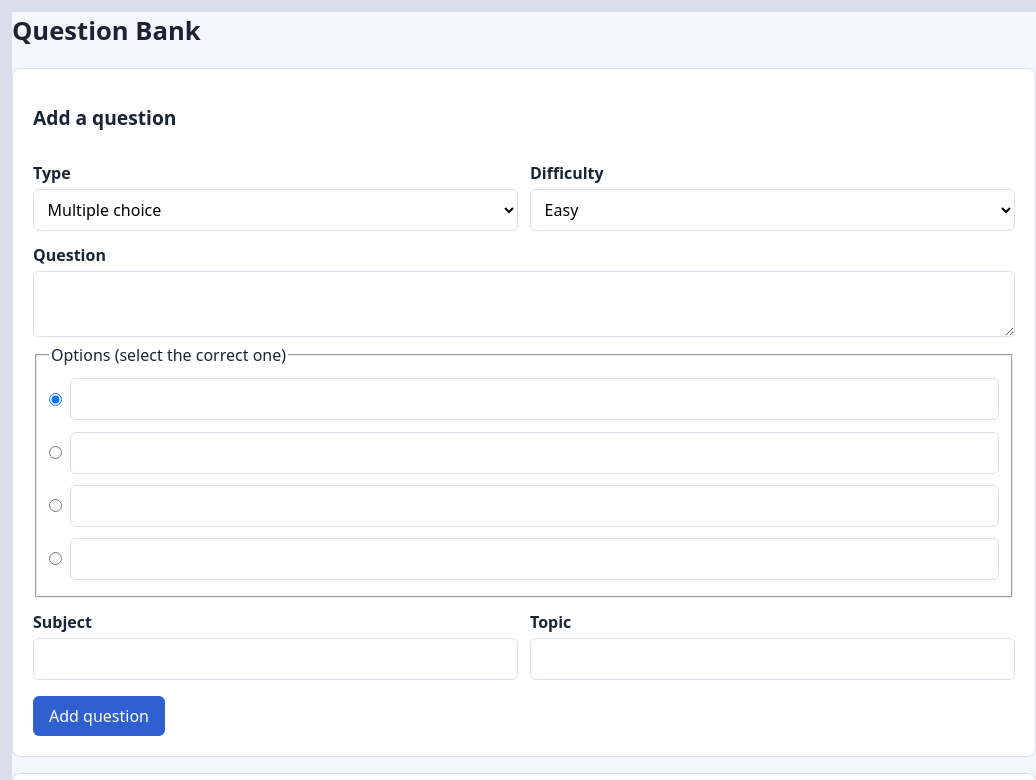
Test: TC-QB-02 MCQ needs four options, True/False two (CSMQP-F-021) › MCQ with a blank option is blocked before any request is sent
The width and height of the screenshot is (1036, 780).
Type "x" into the text box labelled "Question" at (524, 304), box [33,271,1015,337]
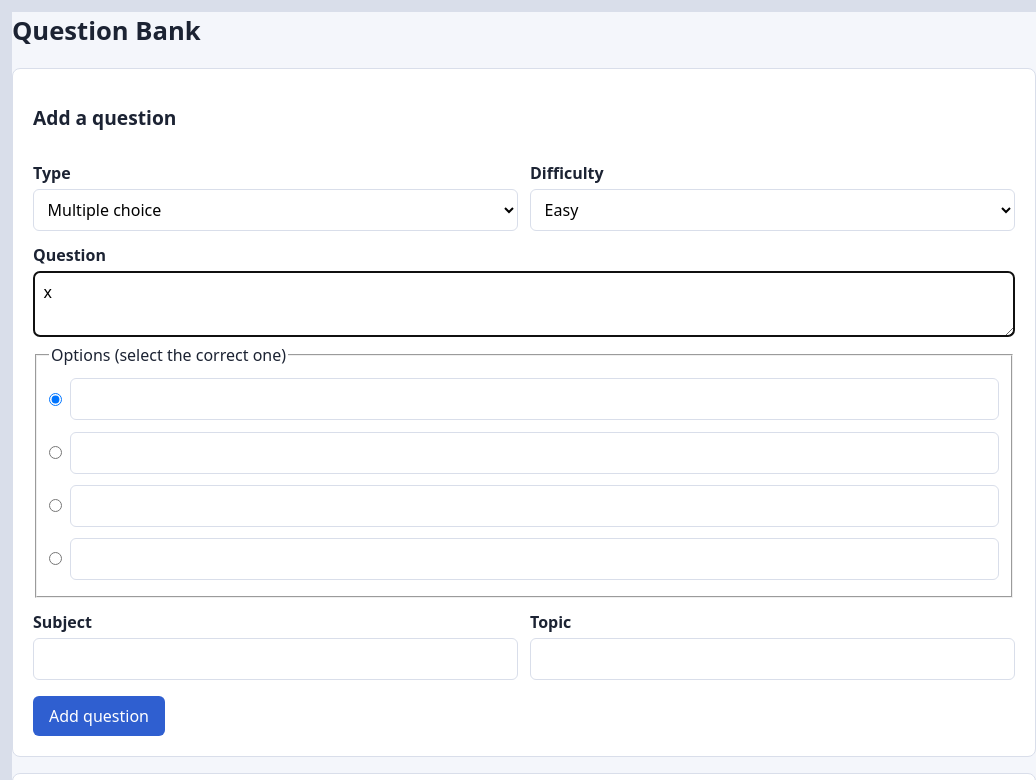
Type "only one" into the field named "Option 1" at (534, 399), box [70,378,999,420]
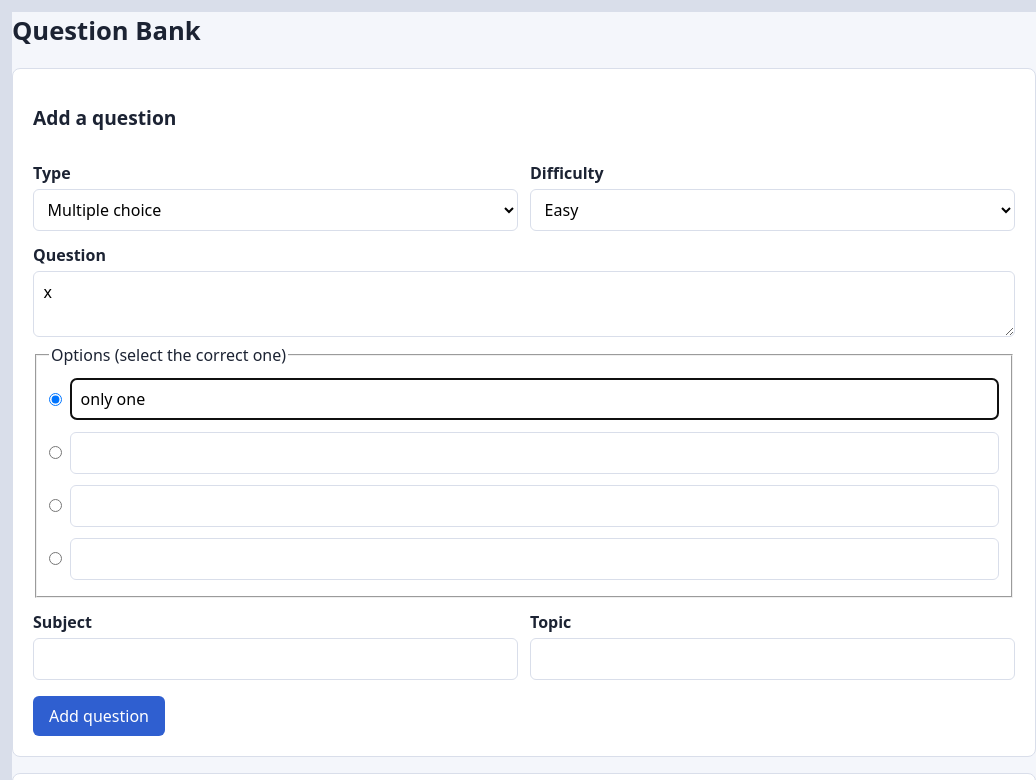
Type "s" into the field labelled "Subject" at (276, 658), box [33,638,518,680]
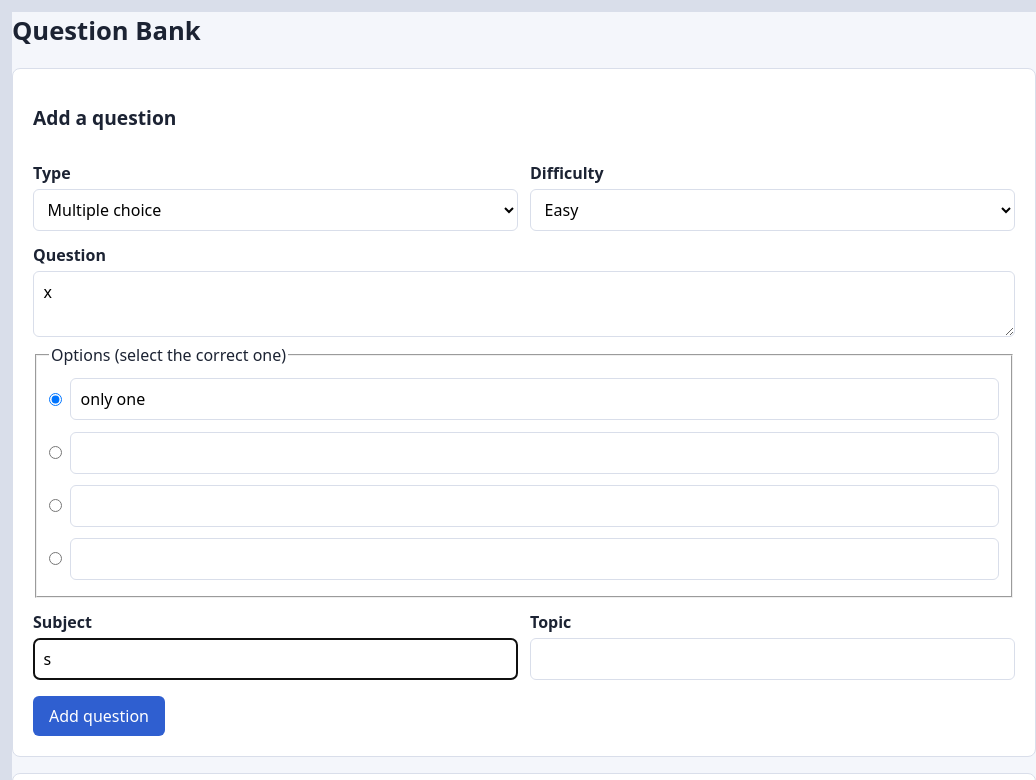
Type "t" into the field labelled "Topic" at (772, 658), box [530,638,1015,680]
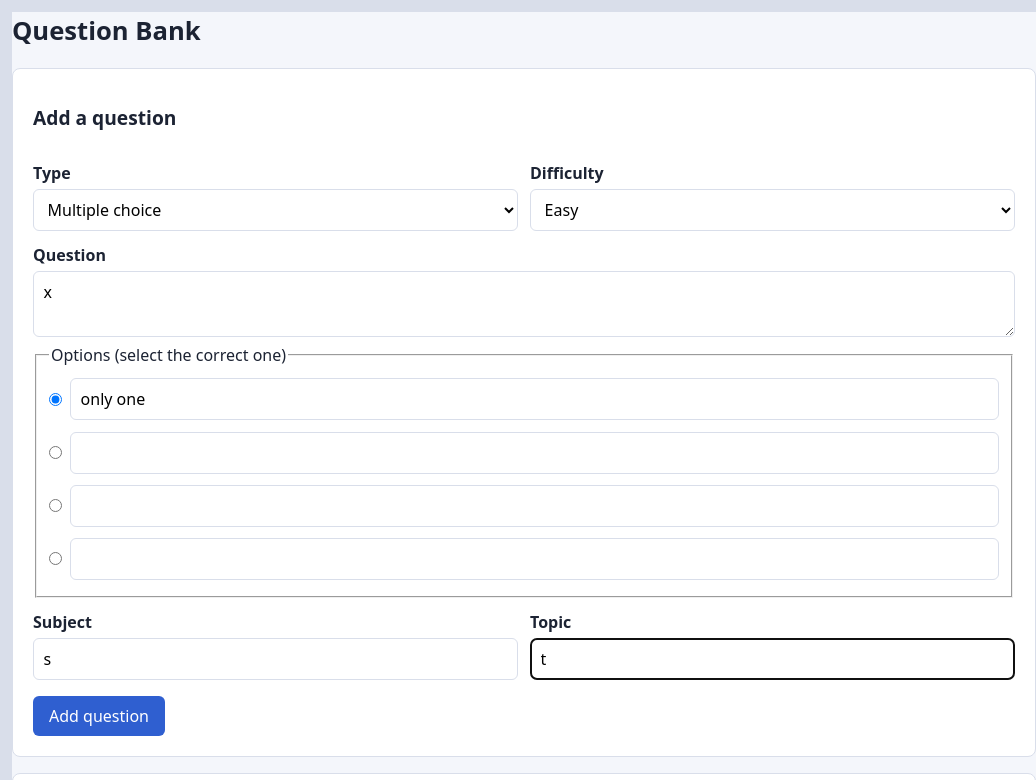
Click the button "Add question" at (99, 716), box [33,696,165,736]
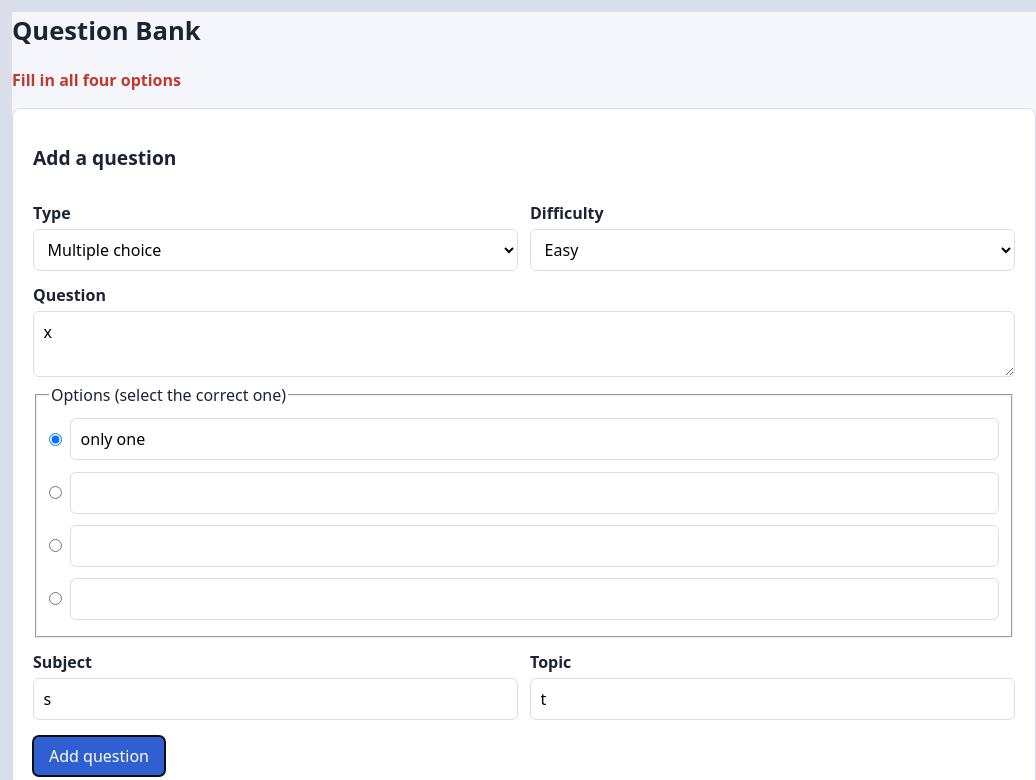
Result: the message reads "Fill in all four options" at [12,68,181,90]
